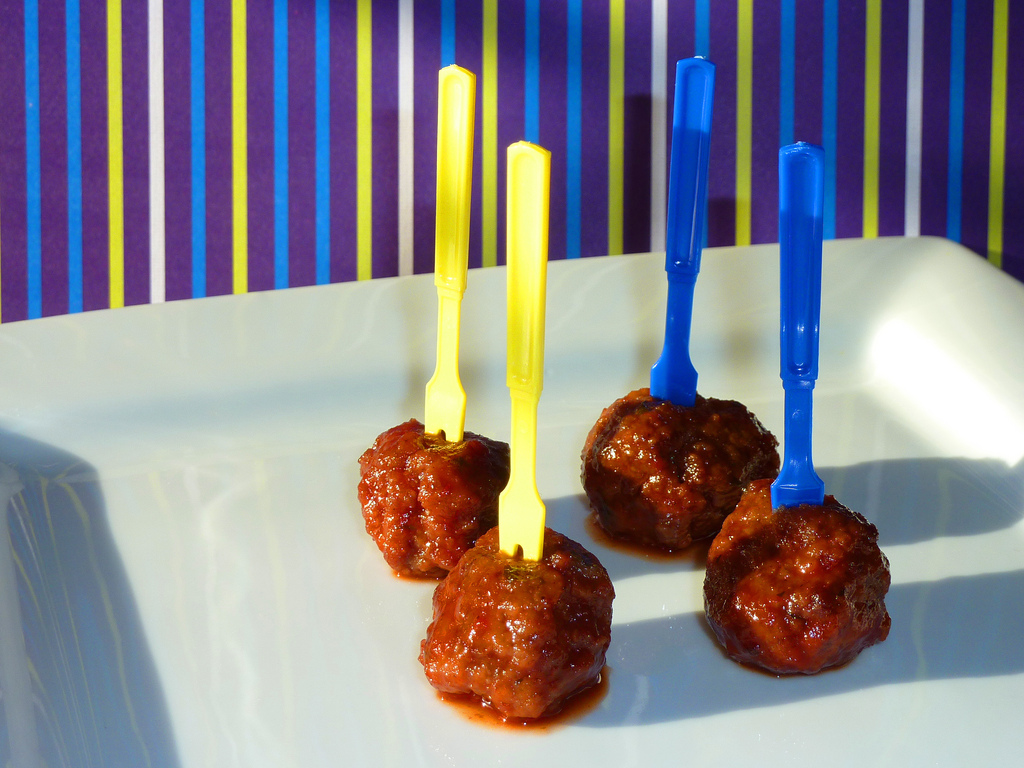meatballs: (417, 516, 625, 734), (704, 470, 897, 690), (578, 376, 787, 559), (355, 411, 516, 593)
